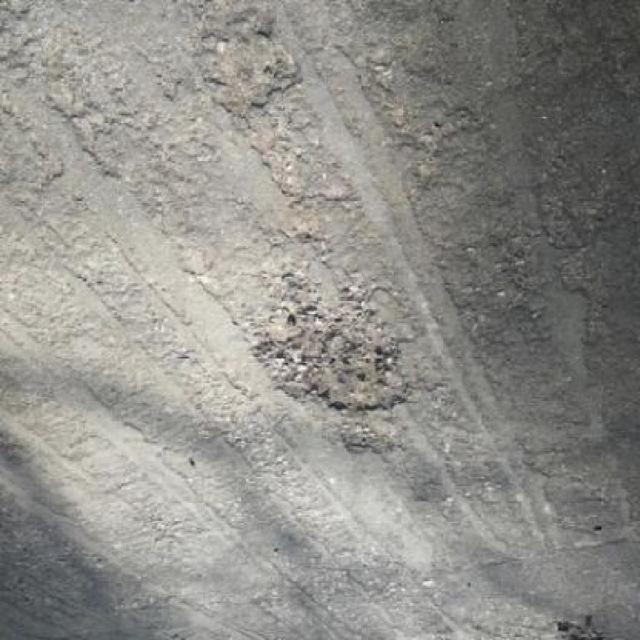pothole1: (238, 284, 417, 419), (338, 420, 393, 458)
